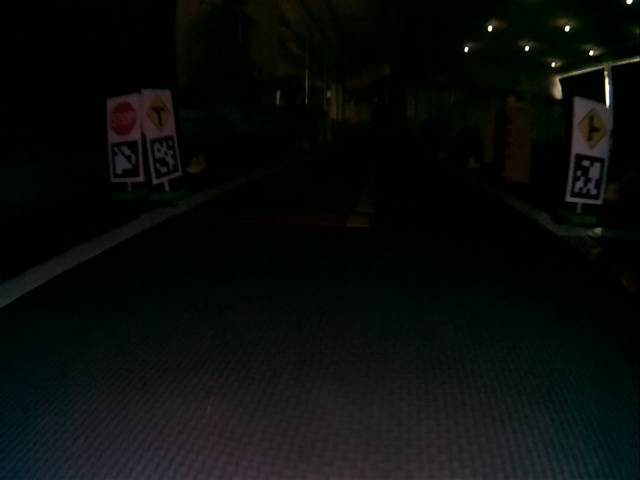Intersection sign: (577, 106, 608, 146), (146, 94, 172, 133)
QR code: (570, 152, 605, 200), (150, 135, 178, 179), (110, 140, 141, 178)
Stop sign: (110, 101, 138, 136)
